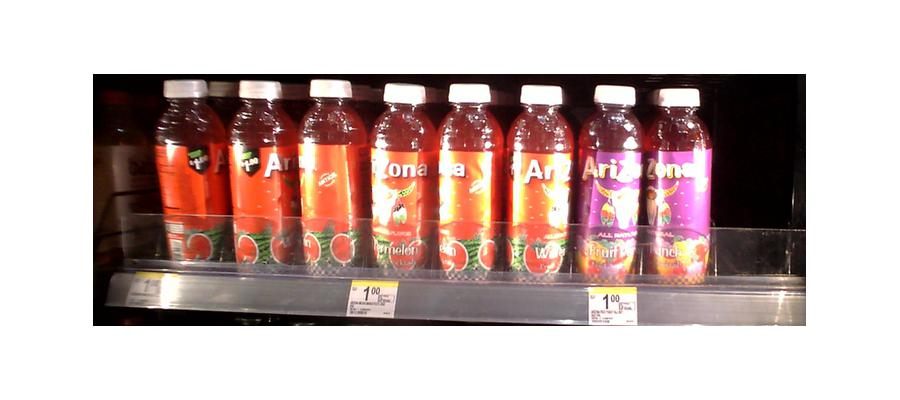bottle: (297, 76, 364, 276), (578, 77, 642, 286), (227, 78, 296, 271), (505, 82, 571, 283), (157, 75, 227, 263), (370, 77, 434, 278), (649, 80, 708, 283), (438, 84, 499, 277)
